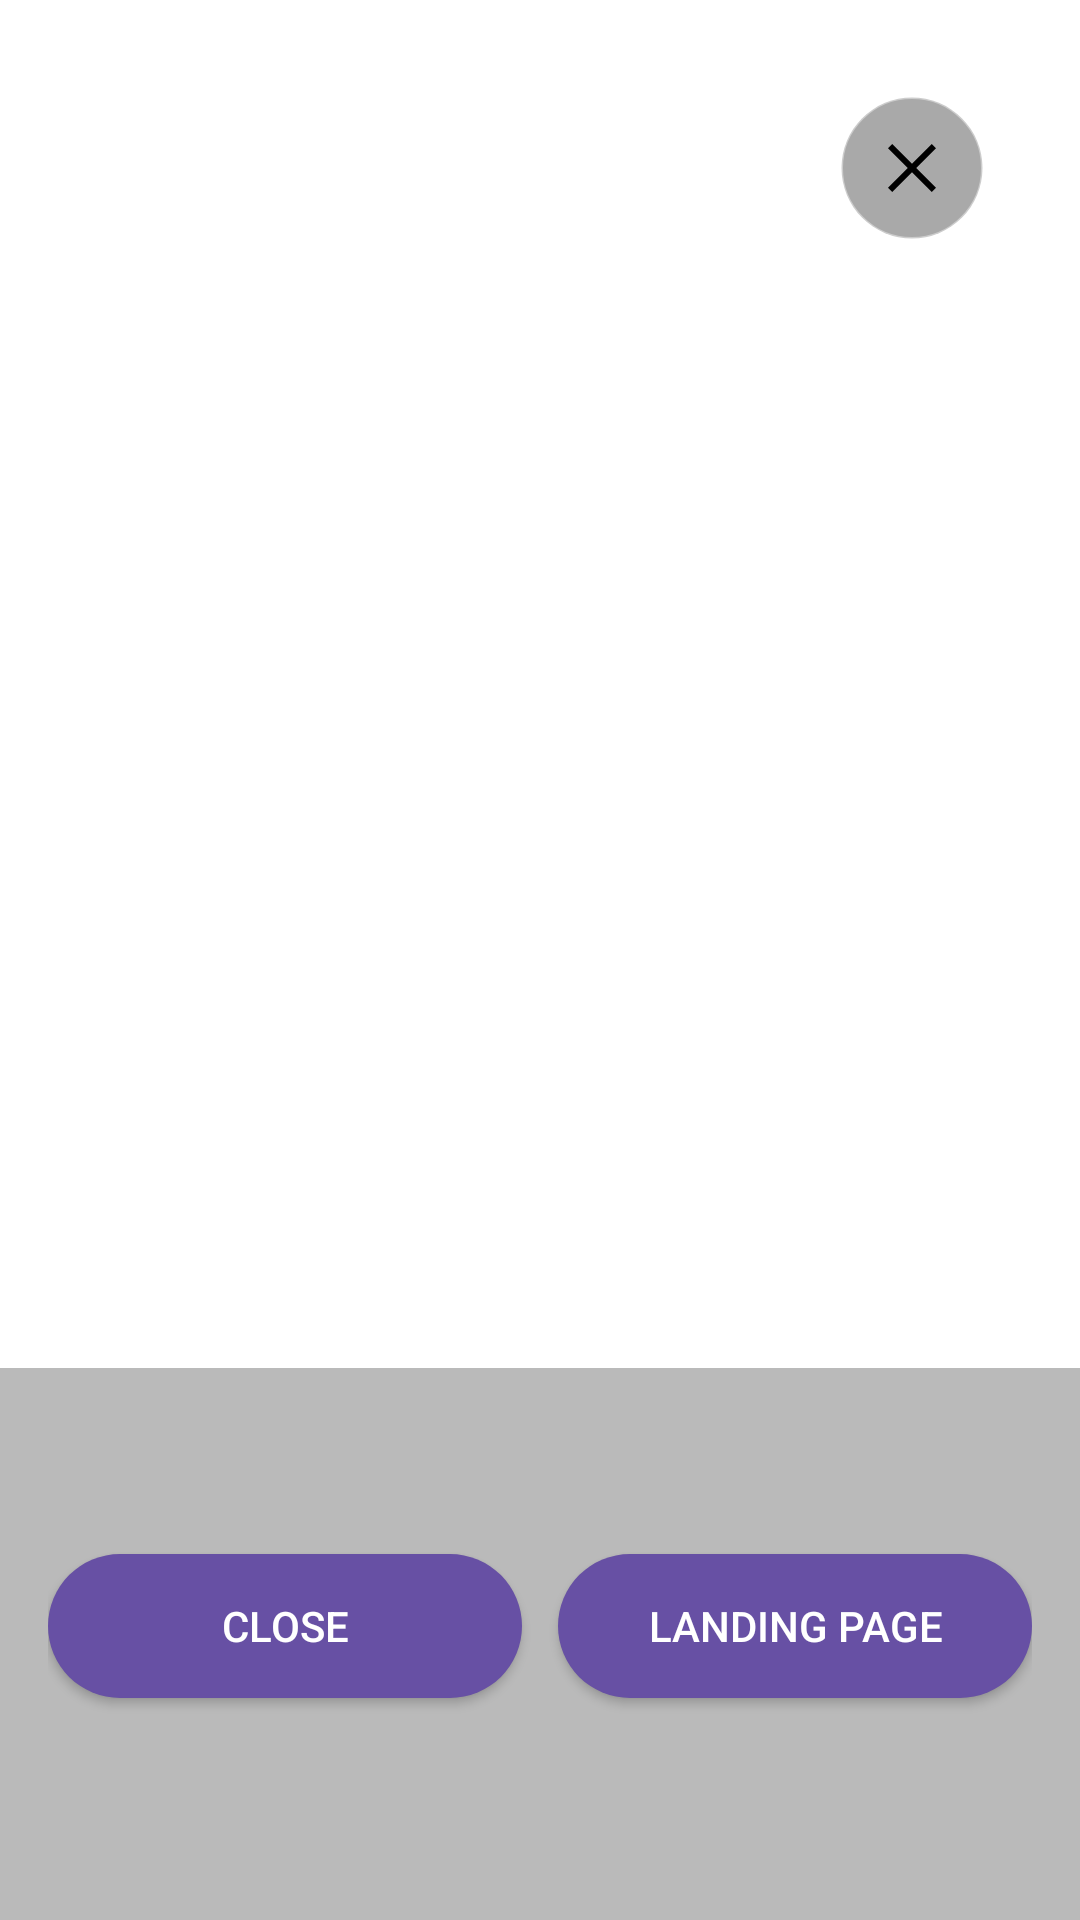

Where to tap for icons on this 1080w x 1920h app screen, as [x,y]:
Close: [912,168]
